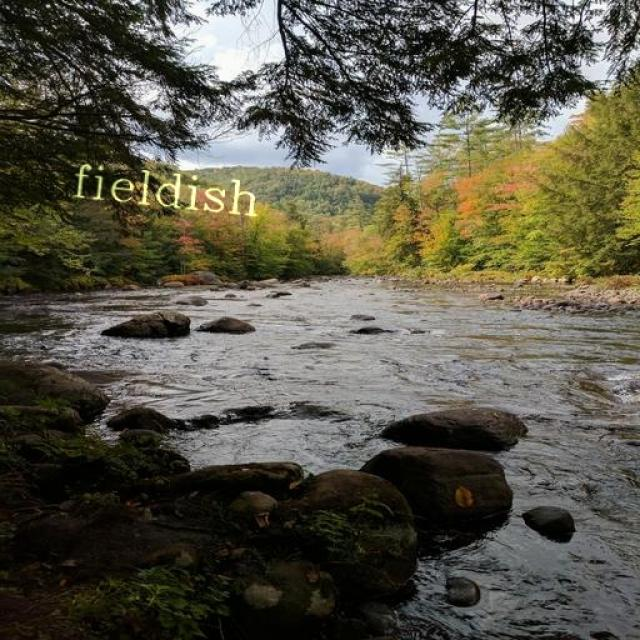watermark: (59, 160, 292, 224)
